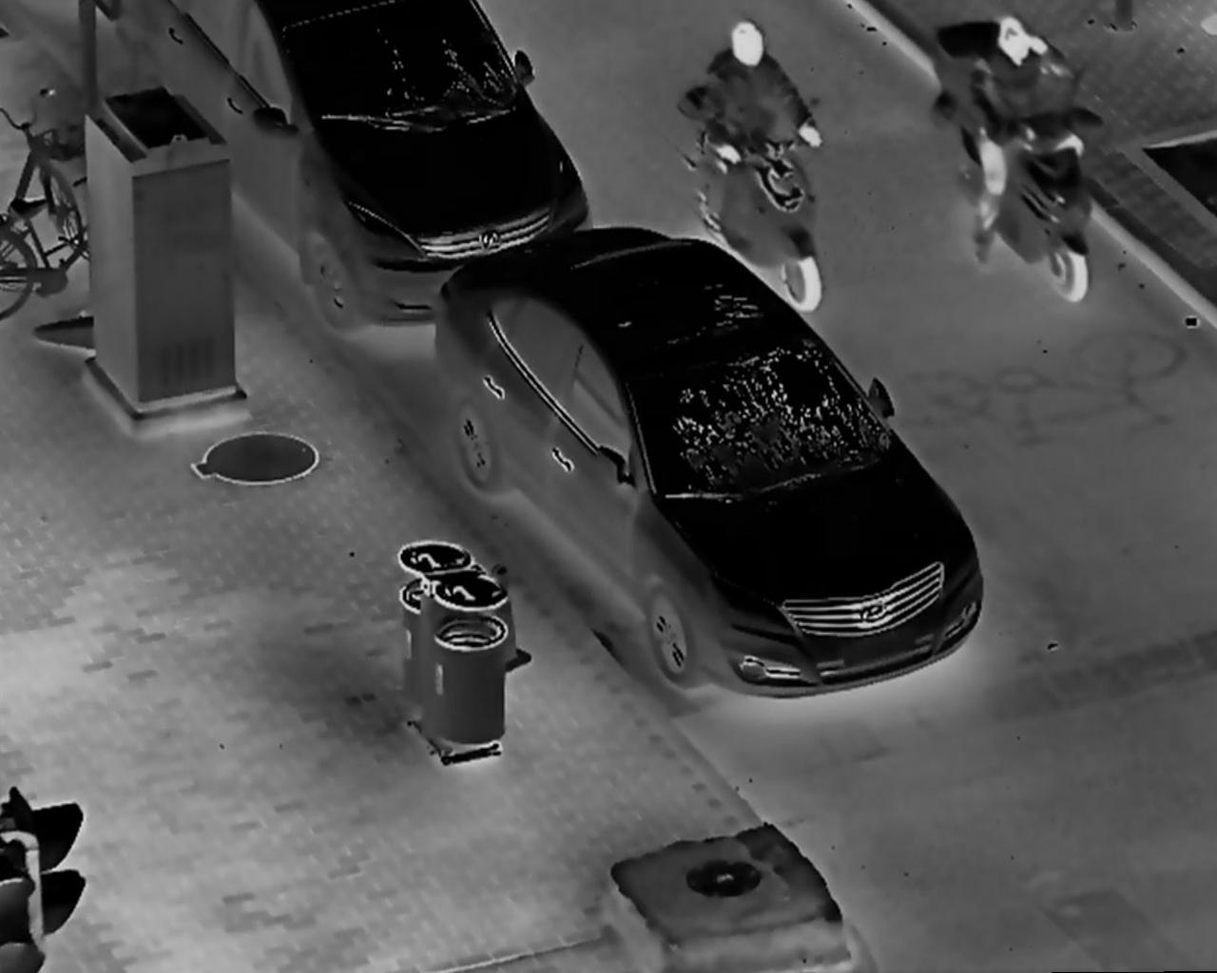person: (696, 20, 821, 232), (976, 13, 1065, 258)
